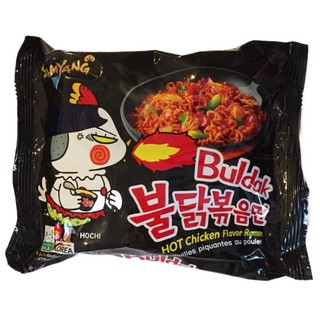Snack: (2, 33, 320, 285)
